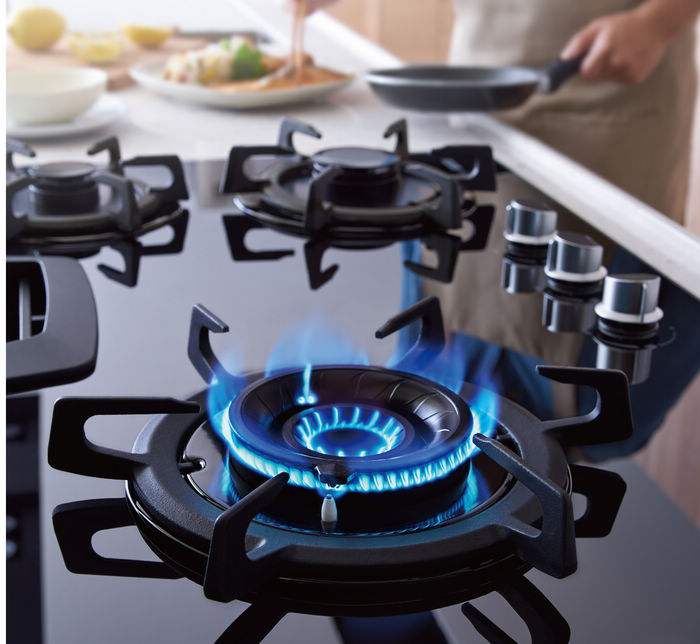gasoven: (2, 136, 691, 619)
